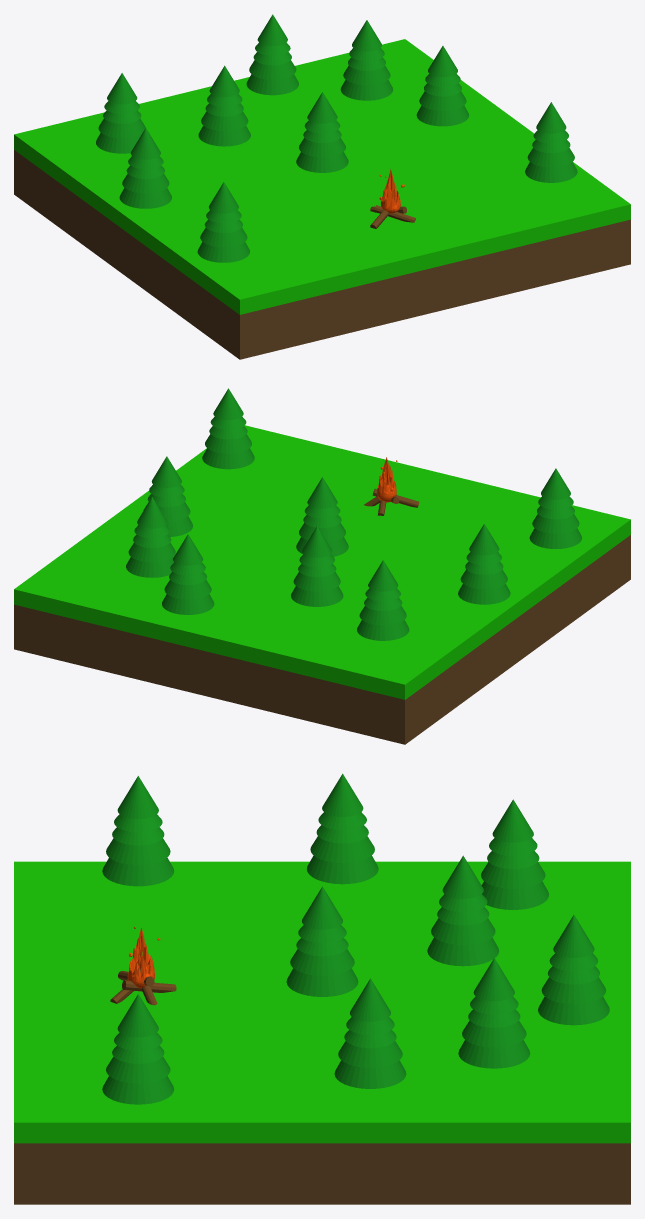
3 views of the same model, one above another, from view 1: azimuth 30°, elevation 25°; view 2: azimuth 150°, elevation 25°; view 3: azimuth 270°, elevation 25° (orthographic). The views are drawn at different scales.
Visible parts, largest first — view 1: Cube; view 2: Cube; view 3: Cube.
Boxes of the visible parts, left/top/right/bottom form: Cube: left=14, top=14, right=630, bottom=359; Cube: left=14, top=388, right=630, bottom=744; Cube: left=14, top=773, right=630, bottom=1204.
Size of the model in its own units: 23.62 by 7.94 by 23.62.
Materials: 2 (2 with a texture image).
